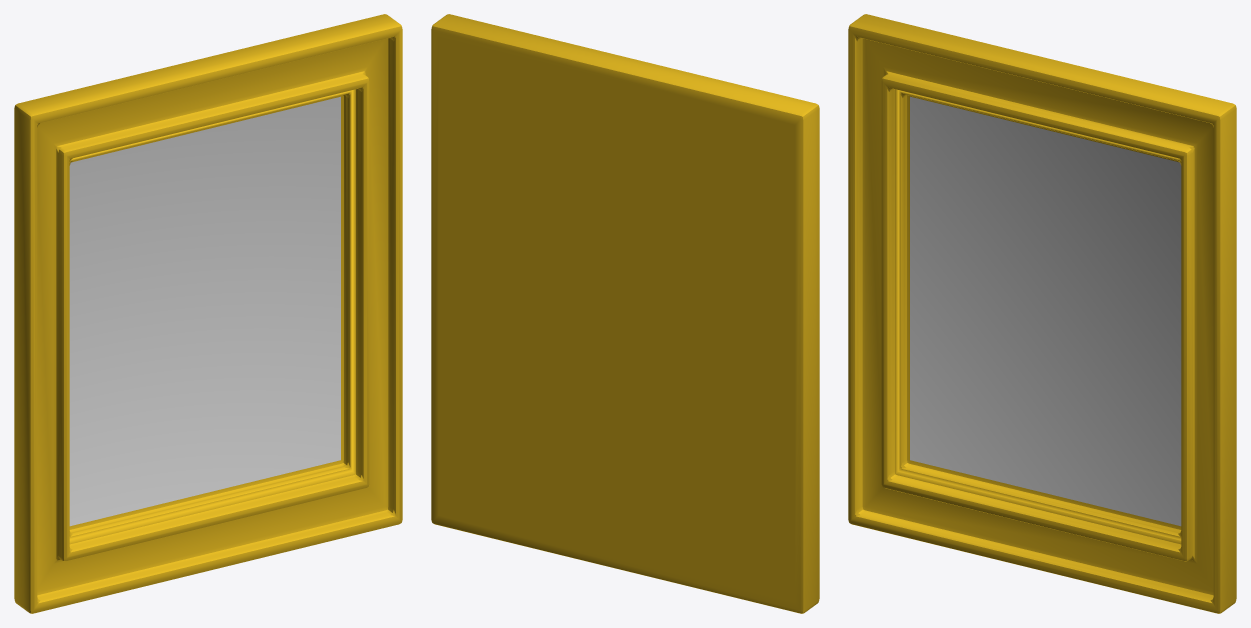
File: Tableau_00.fbx
The picture shows the model from 3 angles, left to right: view 1: azimuth 30°, elevation 25°; view 2: azimuth 150°, elevation 25°; view 3: azimuth 330°, elevation 25°; orthographic projection.
Parts seen in each view (by area): view 1: tableau; view 2: tableau; view 3: tableau.
Part boxes in pixels (bbox=[...]): tableau: bbox=[14, 14, 402, 613]; tableau: bbox=[431, 14, 819, 613]; tableau: bbox=[848, 14, 1236, 613].
Bounding box in the file's own units: 2.03 × 2.6 × 0.1627.
